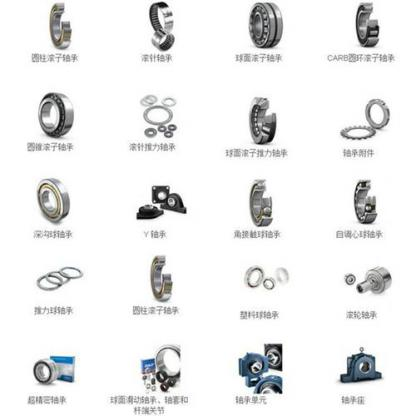FOD: (31, 173, 73, 225), (245, 0, 286, 52), (37, 90, 74, 139), (44, 0, 74, 52), (29, 356, 58, 388), (243, 264, 265, 289)
